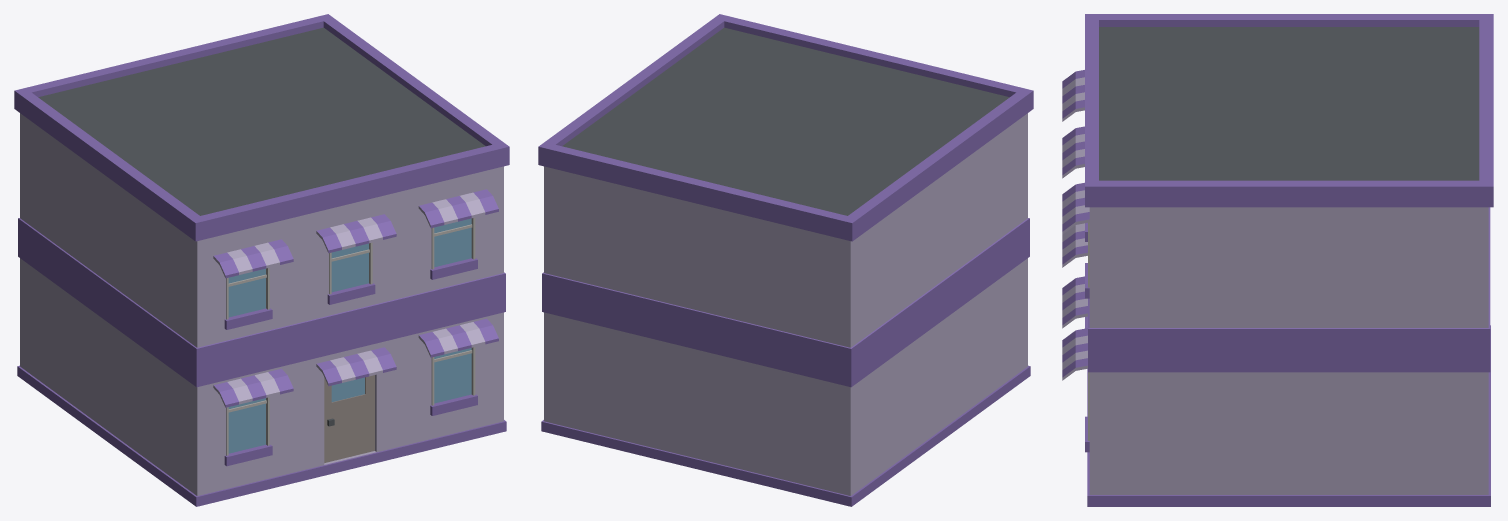
File: House_11.fbx
The picture shows the model from 3 angles, left to right: view 1: azimuth 30°, elevation 25°; view 2: azimuth 150°, elevation 25°; view 3: azimuth 270°, elevation 25°; orthographic projection. The views are drawn at different scales.
Visible parts, largest first — view 1: House_11; view 2: House_11; view 3: House_11.
Part boxes in pixels (box(x1,y1,x2,y2)): House_11: box(14, 14, 509, 506); House_11: box(538, 14, 1033, 506); House_11: box(1062, 14, 1493, 506).
Size of the model in its own units: 14.04 by 12.18 by 14.81.
